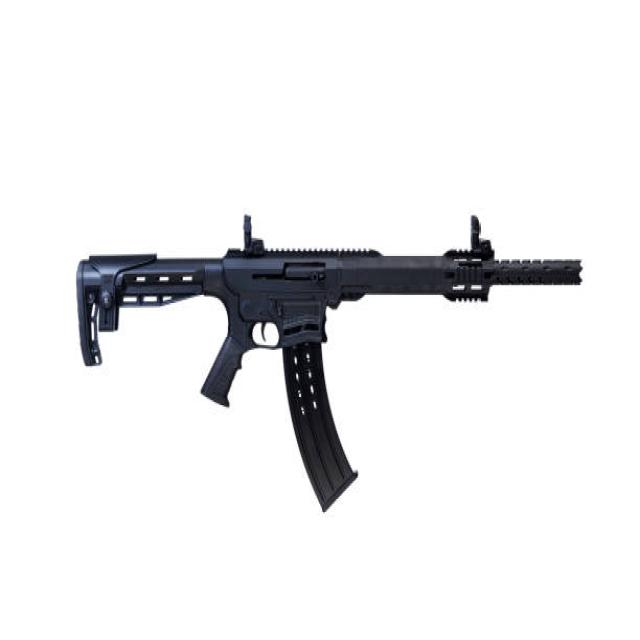rifle: (72, 204, 595, 524)
